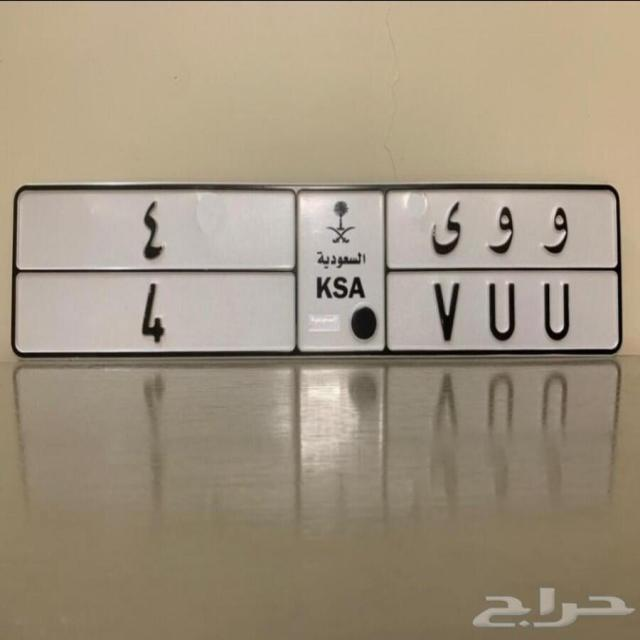license_plate: (113, 274, 579, 350)
